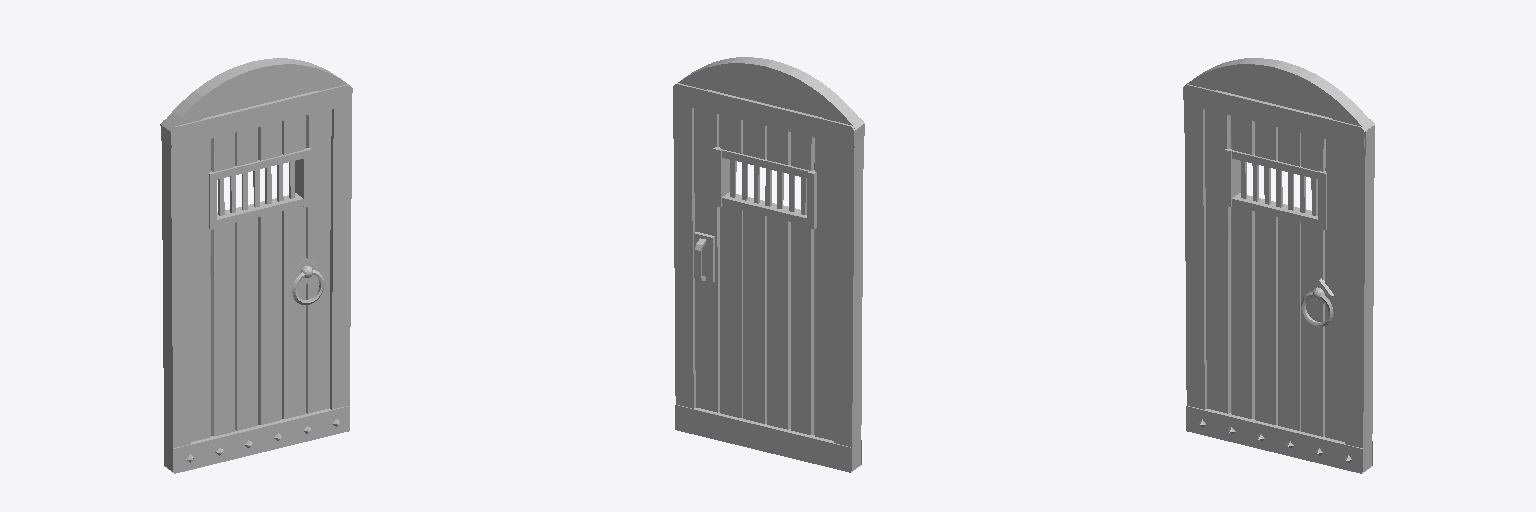
The model's file is Door_8_Round.obj.
3 views of the same model, side by side, from view 1: azimuth 30°, elevation 25°; view 2: azimuth 150°, elevation 25°; view 3: azimuth 330°, elevation 25° (orthographic).
Visible parts, largest first — view 1: Door_8_Round; view 2: Door_8_Round; view 3: Door_8_Round.
Part boxes in pixels (bbox=[...]): Door_8_Round: bbox=[160, 58, 352, 473]; Door_8_Round: bbox=[673, 57, 864, 472]; Door_8_Round: bbox=[1183, 58, 1374, 473].
Bounding box in the file's own units: 1.15 × 2.32 × 0.1995.